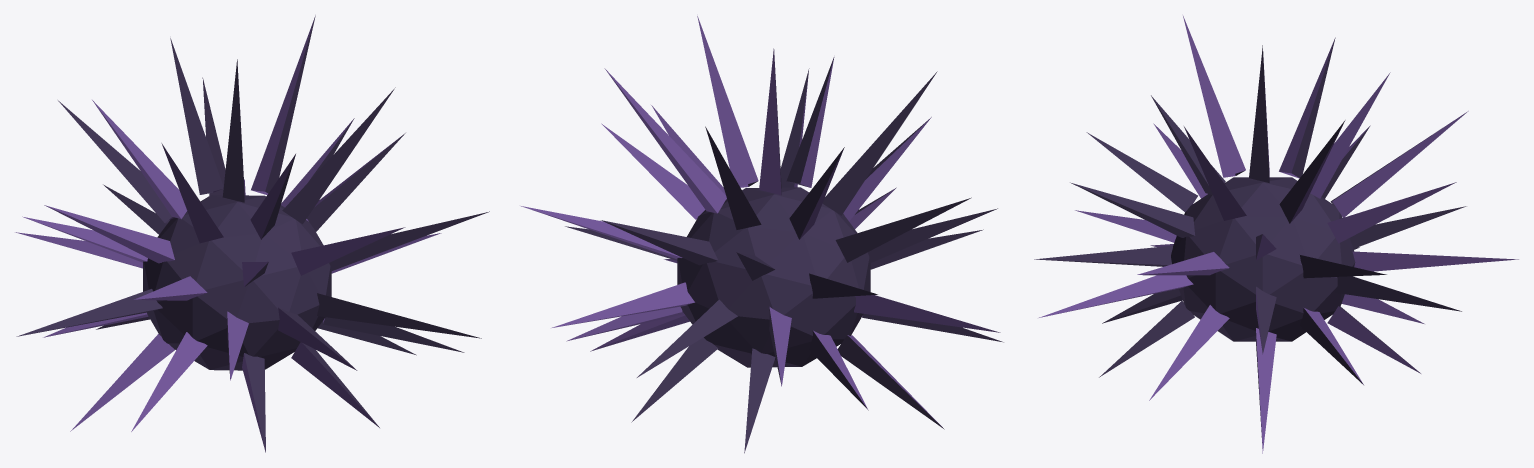
Rendered from sea_urchin.glb.
The picture shows the model from 3 angles, left to right: view 1: azimuth 30°, elevation 25°; view 2: azimuth 150°, elevation 25°; view 3: azimuth 270°, elevation 25°; orthographic projection. The views are drawn at different scales.
Parts seen in each view (by area): view 1: Body; view 2: Body; view 3: Body.
Part boxes in pixels (x1,y1,x2,y2): Body: (15,15,489,452); Body: (521,16,1003,453); Body: (1034,16,1518,453).
Bounding box in the file's own units: 0.4723 × 0.3611 × 0.4895.
